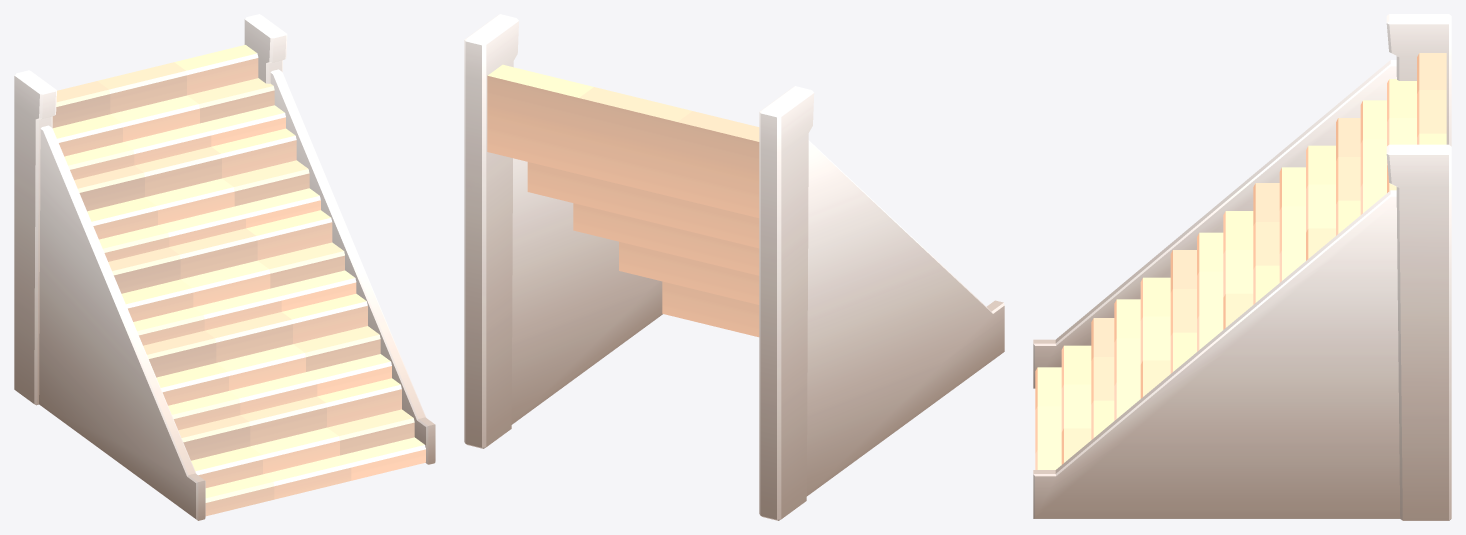
Rendered from stairs.gltf.
3 renders of one model, left to right at view 1: azimuth 30°, elevation 25°; view 2: azimuth 150°, elevation 25°; view 3: azimuth 270°, elevation 25°, orthographic. The views are drawn at different scales.
Visible parts, largest first — view 1: Object_216; view 2: Object_216; view 3: Object_216.
Part boxes in pixels (x1=…): Object_216: x1=14, y1=14, x2=435, y2=520; Object_216: x1=464, y1=14, x2=1004, y2=520; Object_216: x1=1033, y1=14, x2=1451, y2=520.
Bounding box in the file's own units: 0.8731 × 1.07 × 1.1.
1 material, 1 textured.
